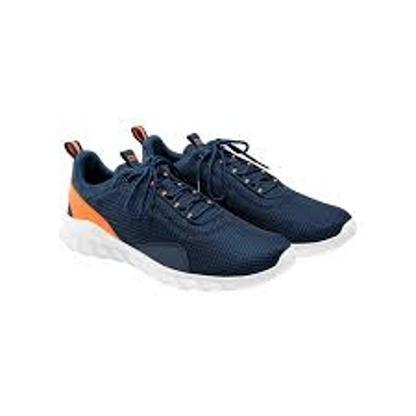not trash: (56, 121, 363, 292)
